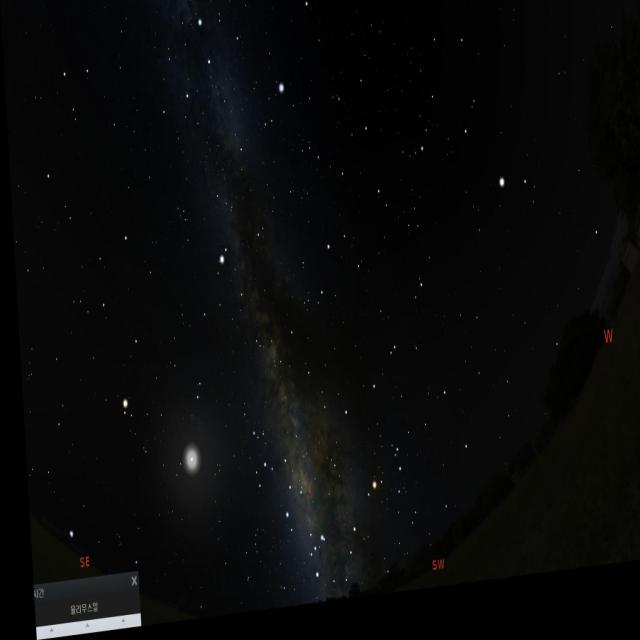aquila: (195, 218, 284, 386)
bootes: (417, 19, 518, 238)
cygnus: (175, 16, 251, 190)
lyra: (253, 83, 294, 148)
moon: (182, 438, 203, 499)
sagittarius: (219, 428, 292, 543)
scorpius: (299, 434, 406, 582)
